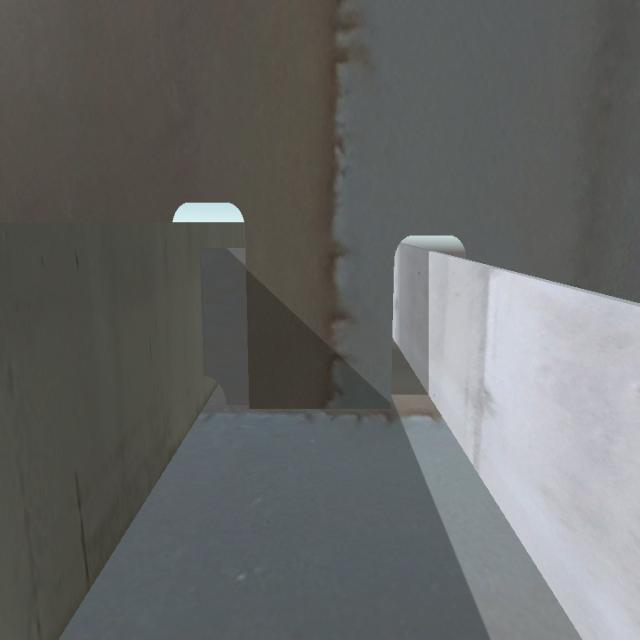fillet_hole: (202, 373, 228, 412)
fillet_yong_jeop_jang: (232, 402, 394, 416)
longi_yong_jeop_jang: (196, 256, 209, 372)
plate_behind: (201, 248, 250, 406)
